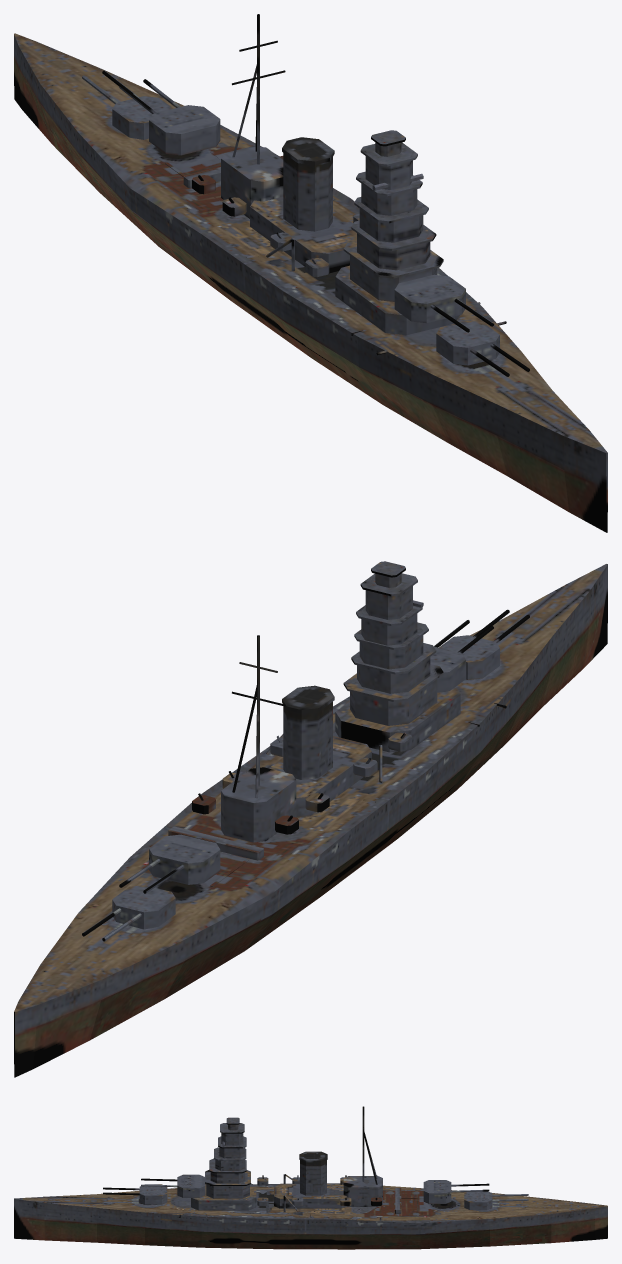
Rendered from simple-medium.glb.
The picture shows the model from 3 angles, top to bottom: view 1: azimuth 30°, elevation 25°; view 2: azimuth 150°, elevation 25°; view 3: azimuth 270°, elevation 25°; orthographic projection. The views are drawn at different scales.
Parts seen in each view (by area): view 1: Authored hull sections, Authored deck outline, Deckhouse 1, Funnel 0, Deckhouse 2, Main turret TurretShape33, Main turret TurretShape30, Deckhouse 0, Main turret TurretShape31, Pagoda tier 1, Pagoda tier 0, Pagoda tier 2 (+5 smaller); view 2: Authored deck outline, Authored hull sections, Deckhouse 2, Funnel 0, Deckhouse 0, Main turret TurretShape33, Deckhouse 1, Pagoda tier 0, Main turret TurretShape32, Pagoda tier 1, Main turret TurretShape31, Pagoda tier 4 (+6 smaller); view 3: Authored hull sections, Authored deck outline, Deckhouse 1, Deckhouse 2, Deckhouse 0, Funnel 0, Main turret TurretShape33, Main turret TurretShape30, Pagoda tier 0, Main turret TurretShape31, Main turret TurretShape32, Pagoda tier 1 (+6 smaller).
Boxes of the visible parts, bbox=[...] form: Authored hull sections: bbox=[14, 34, 607, 532]; Authored deck outline: bbox=[14, 33, 607, 453]; Deckhouse 1: bbox=[250, 197, 356, 273]; Funnel 0: bbox=[283, 153, 332, 231]; Deckhouse 2: bbox=[221, 146, 283, 218]; Main turret TurretShape33: bbox=[149, 105, 220, 155]; Main turret TurretShape30: bbox=[394, 274, 465, 323]; Deckhouse 0: bbox=[335, 265, 459, 335]; Main turret TurretShape31: bbox=[436, 320, 499, 365]; Pagoda tier 1: bbox=[357, 225, 430, 270]; Pagoda tier 0: bbox=[350, 242, 437, 301]; Pagoda tier 2: bbox=[359, 202, 423, 242]; Authored deck outline: bbox=[14, 564, 607, 1011]; Authored hull sections: bbox=[14, 564, 607, 1077]; Deckhouse 2: bbox=[221, 767, 296, 842]; Funnel 0: bbox=[283, 701, 332, 779]; Deckhouse 0: bbox=[335, 687, 460, 752]; Main turret TurretShape33: bbox=[149, 834, 220, 884]; Deckhouse 1: bbox=[268, 736, 371, 817]; Pagoda tier 0: bbox=[350, 665, 437, 725]; Main turret TurretShape32: bbox=[112, 885, 175, 929]; Pagoda tier 1: bbox=[357, 644, 430, 693]; Main turret TurretShape31: bbox=[439, 635, 499, 679]; Pagoda tier 4: bbox=[365, 574, 412, 619]; Authored hull sections: bbox=[14, 1199, 607, 1249]; Authored deck outline: bbox=[14, 1183, 607, 1223]; Deckhouse 1: bbox=[274, 1184, 347, 1208]; Deckhouse 2: bbox=[343, 1176, 382, 1206]; Deckhouse 0: bbox=[191, 1183, 256, 1210]; Funnel 0: bbox=[300, 1160, 326, 1195]; Main turret TurretShape33: bbox=[423, 1180, 451, 1203]; Main turret TurretShape30: bbox=[177, 1174, 205, 1197]; Pagoda tier 0: bbox=[206, 1172, 249, 1198]; Main turret TurretShape31: bbox=[139, 1184, 167, 1204]; Main turret TurretShape32: bbox=[464, 1191, 492, 1210]; Pagoda tier 1: bbox=[210, 1161, 245, 1183].
Size of the model in its own units: 19.68 by 33.3 by 136.
Materials: 1 (1 with a texture image).
